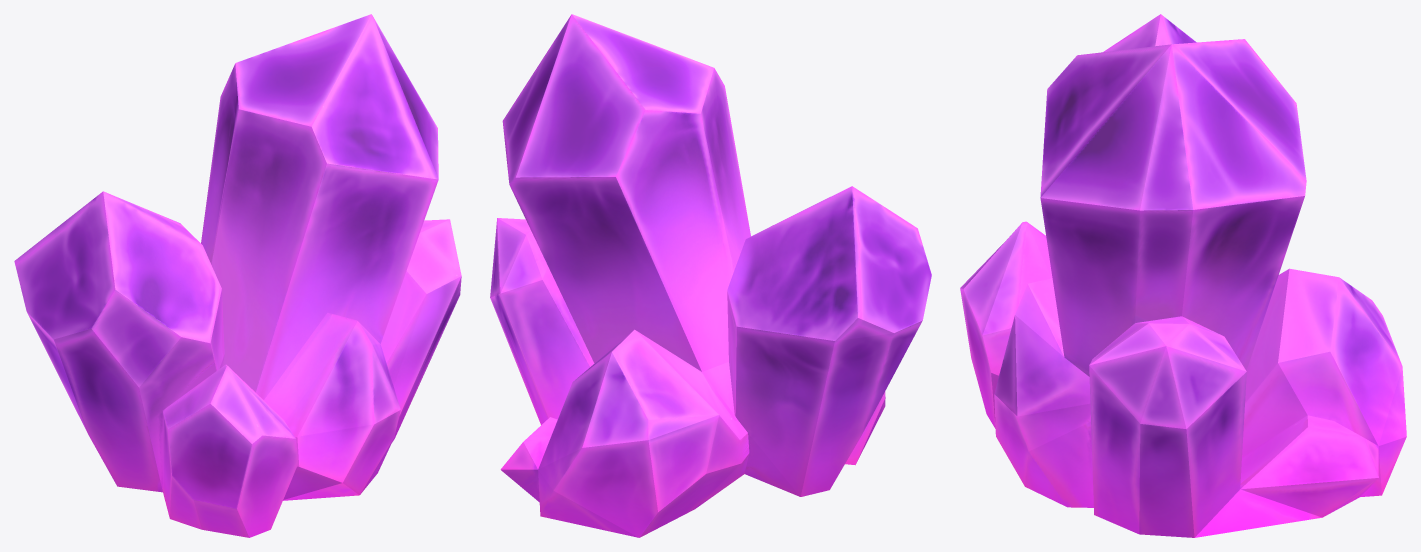
Rendered from crystal_purple.fbx.
3 views of the same model, side by side, from view 1: azimuth 30°, elevation 25°; view 2: azimuth 150°, elevation 25°; view 3: azimuth 270°, elevation 25° (orthographic). The views are drawn at different scales.
Parts seen in each view (by area): view 1: crystal_purple; view 2: crystal_purple; view 3: crystal_purple.
Part boxes in pixels (bbox=[...]): crystal_purple: bbox=[14, 14, 461, 537]; crystal_purple: bbox=[490, 14, 931, 537]; crystal_purple: bbox=[960, 14, 1406, 537].
Size of the model in its own units: 1.66 by 1.62 by 1.35.
